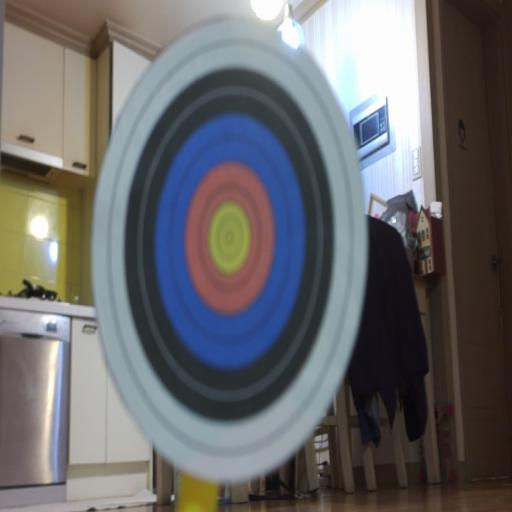target: (92, 18, 368, 479)
